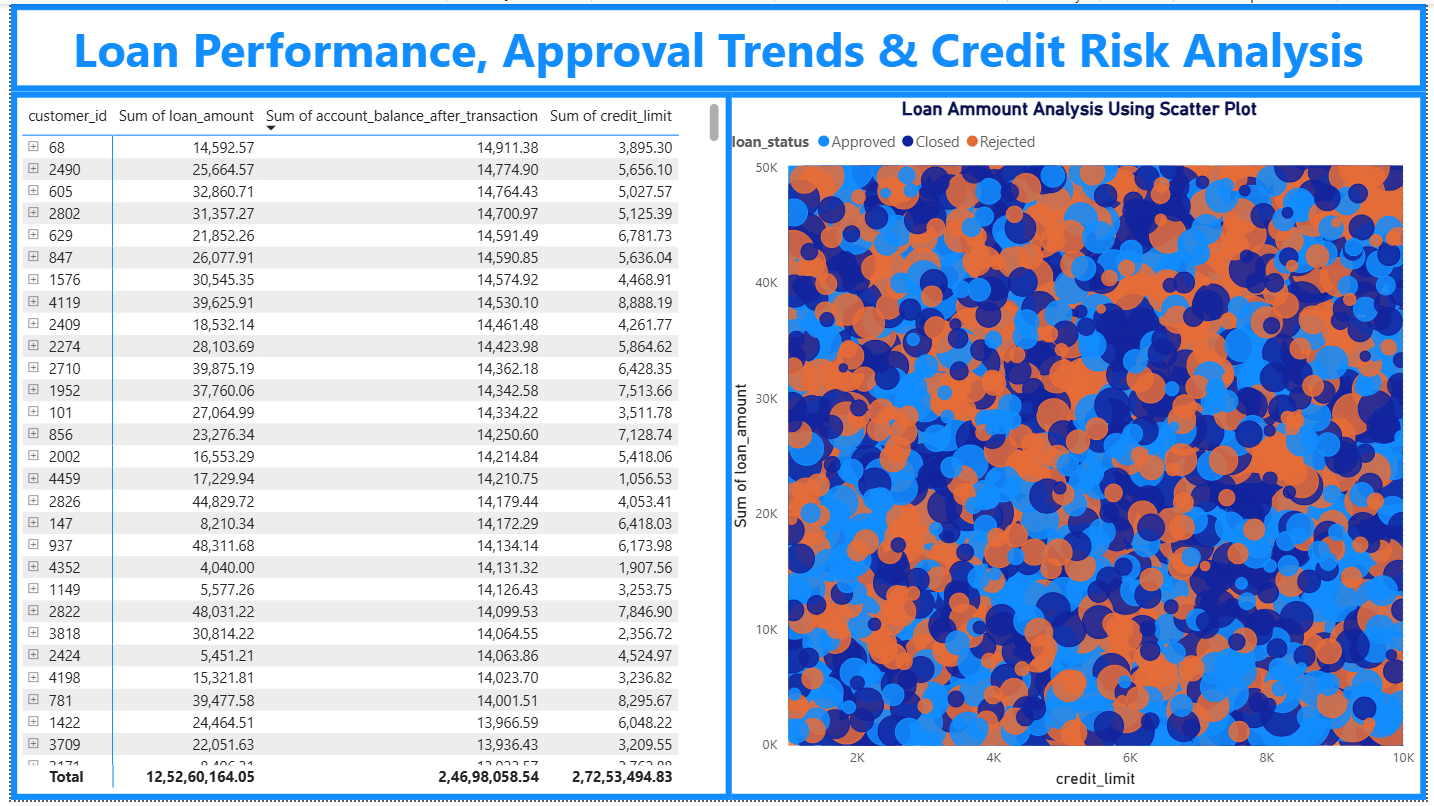

This screenshot's page, from the dashboard's own definition file:
{"tool":"powerbi","page":{"name":"Loan Analytics","canvas":[1280,720],"ordinal":2},"visuals":[{"type":"textbox","box":[0,0,1280.3,79.6],"z":0},{"type":"scatterChart","title":"Loan Ammount Analysis Using Scatter Plot","fields":{"X":["cleaned_banking_data.credit_limit"],"Y":["Sum(cleaned_banking_data.loan_amount)"],"Series":["cleaned_banking_data.loan_status"],"Size":["Sum(cleaned_banking_data.transaction_amount)"]},"box":[640.8,79.6,639.5,640.8],"z":1000},{"type":"pivotTable","fields":{"Rows":["cleaned_banking_data.customer_id","cleaned_banking_data.city","cleaned_banking_data.loan_status"],"Values":["Sum(cleaned_banking_data.loan_amount)","Sum(cleaned_banking_data.account_balance_after_transaction)","Sum(cleaned_banking_data.credit_limit)"]},"box":[0,79.6,651.8,640.8],"z":2000}]}

Visuals, with their boxes in screenshot pixels (x1, y1, x2, y2), scaled from the page's 1280x720 canvas onto the 1434x806 screenshot:
textbox: [x1=0, y1=0, x2=1433, y2=89]
"Loan Ammount Analysis Using Scatter Plot" scatterChart: [x1=718, y1=89, x2=1433, y2=805]
pivotTable - cleaned_banking_data.customer_id x cleaned_banking_data.city: [x1=0, y1=89, x2=730, y2=805]
